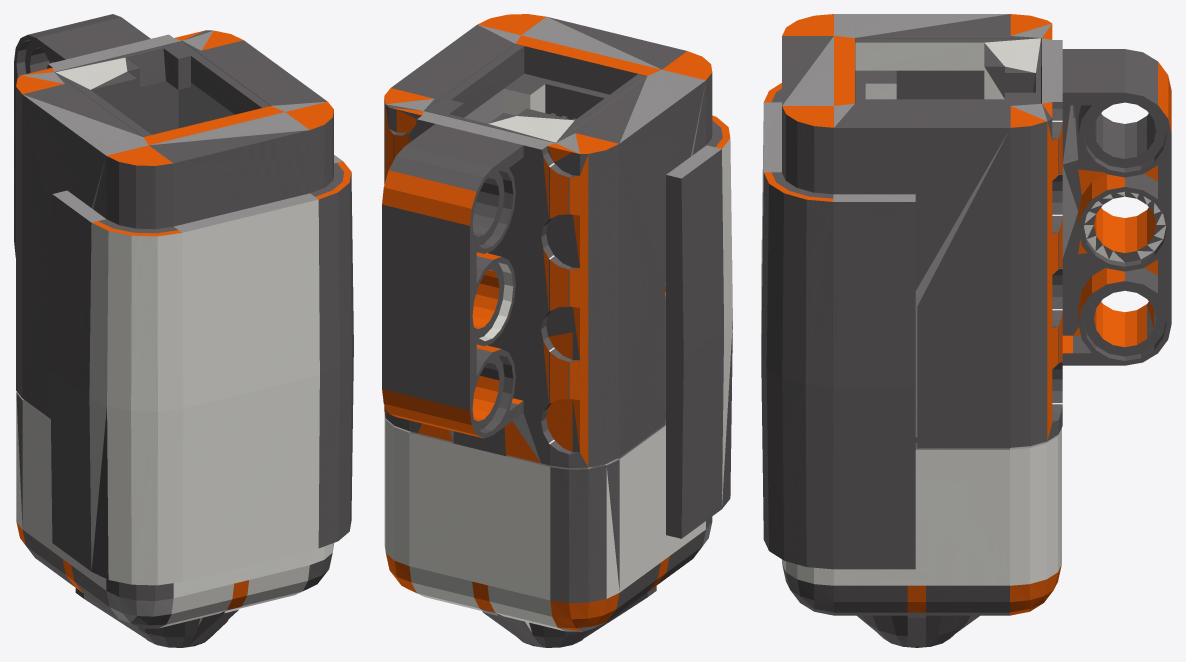
Rendered from touch_sensor_9843.dae.
3 renders of one model, left to right at view 1: azimuth 30°, elevation 25°; view 2: azimuth 150°, elevation 25°; view 3: azimuth 270°, elevation 25°, orthographic. The views are drawn at different scales.
Parts seen in each view (by area): view 1: node; view 2: node; view 3: node.
Part boxes in pixels (bbox=[...]): node: bbox=[14, 14, 353, 647]; node: bbox=[382, 14, 732, 647]; node: bbox=[761, 14, 1171, 647].
Bounding box in the file's own units: 59.5 × 118 × 78.5.
1 material, 1 textured.
